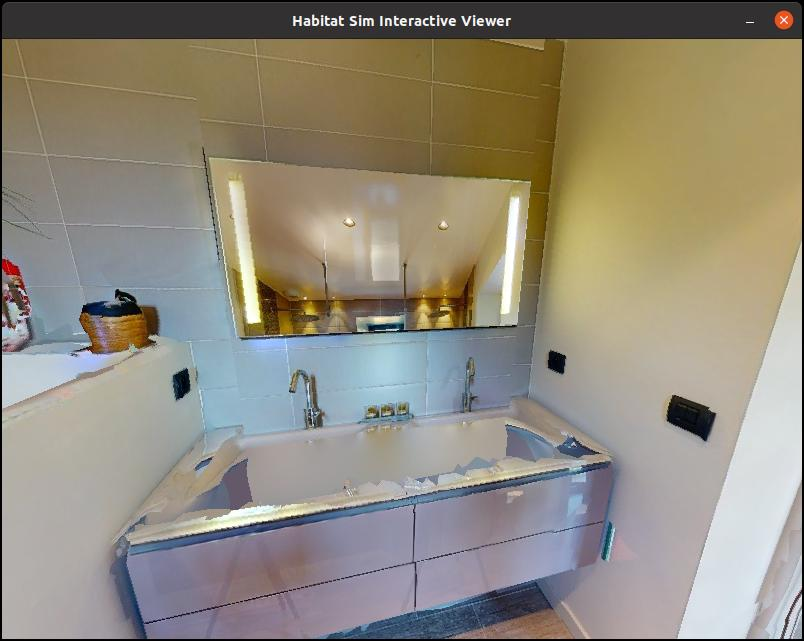sink: (103, 355, 621, 582)
